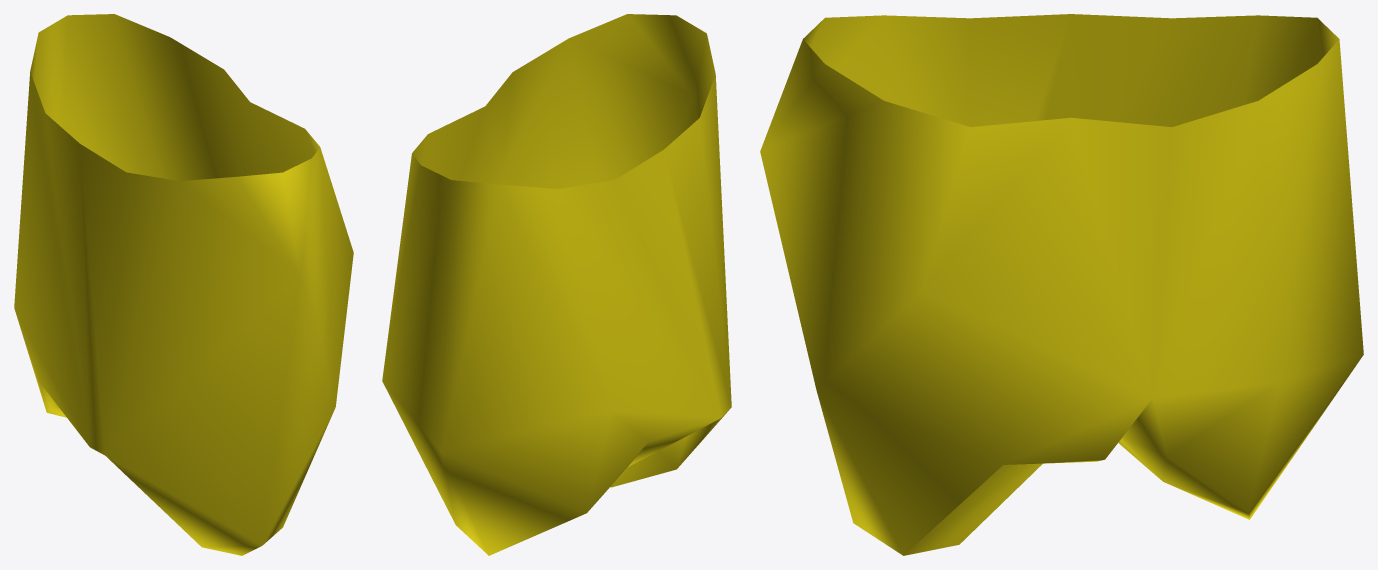
Rendered from D14N_NUC.obj.
3 views of the same model, side by side, from view 1: azimuth 30°, elevation 25°; view 2: azimuth 150°, elevation 25°; view 3: azimuth 270°, elevation 25° (orthographic). The views are drawn at different scales.
Visible parts, largest first — view 1: D14N_NUC; view 2: D14N_NUC; view 3: D14N_NUC.
Boxes of the visible parts, x1,y1,x2,y2 form: D14N_NUC: (14, 14, 353, 555); D14N_NUC: (382, 14, 731, 555); D14N_NUC: (760, 14, 1363, 555).
Bounding box in the file's own units: 3.4 × 5.68 × 6.03.
